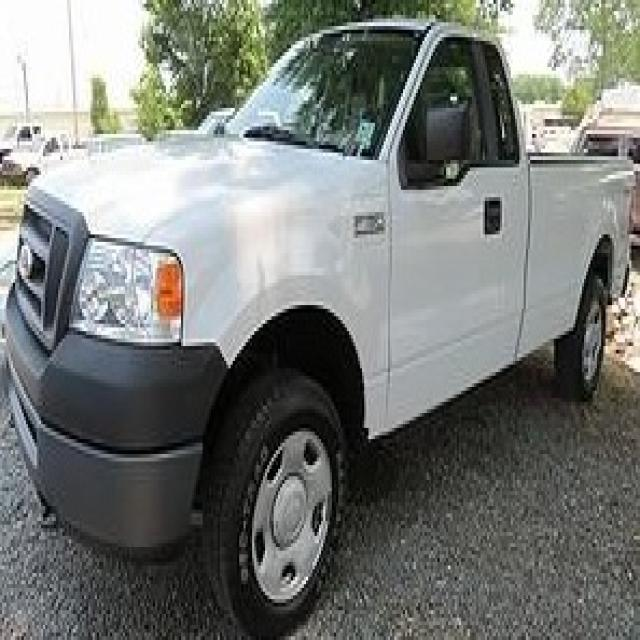CMT: (2, 31, 626, 634)
